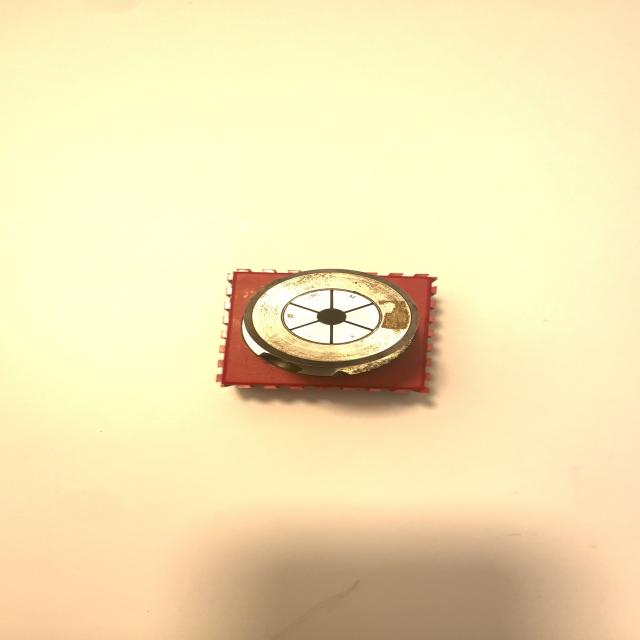Filled_Slot: (241, 269, 418, 377)
